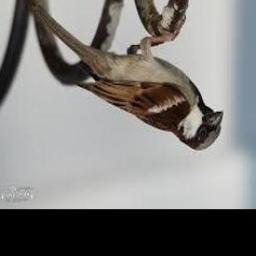Sparrow: (30, 2, 223, 150)
